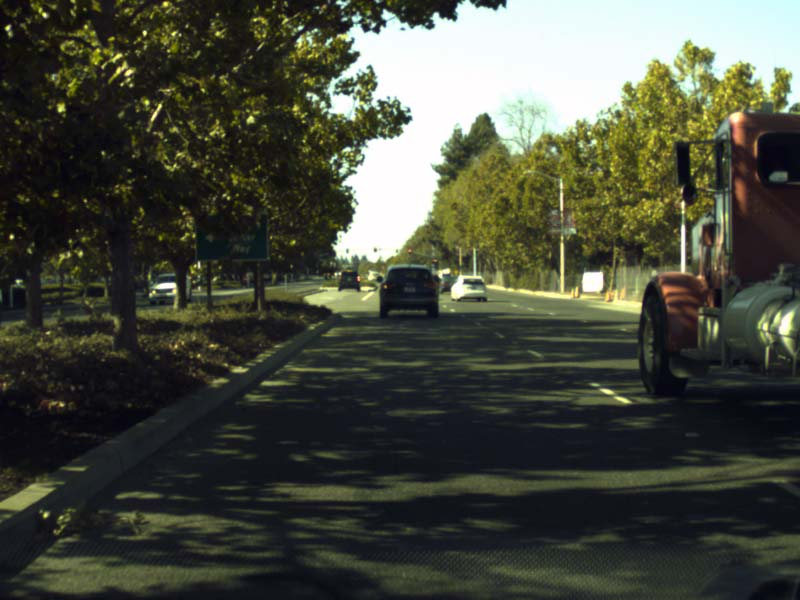Red: (431, 257, 437, 266), (408, 248, 411, 254)
